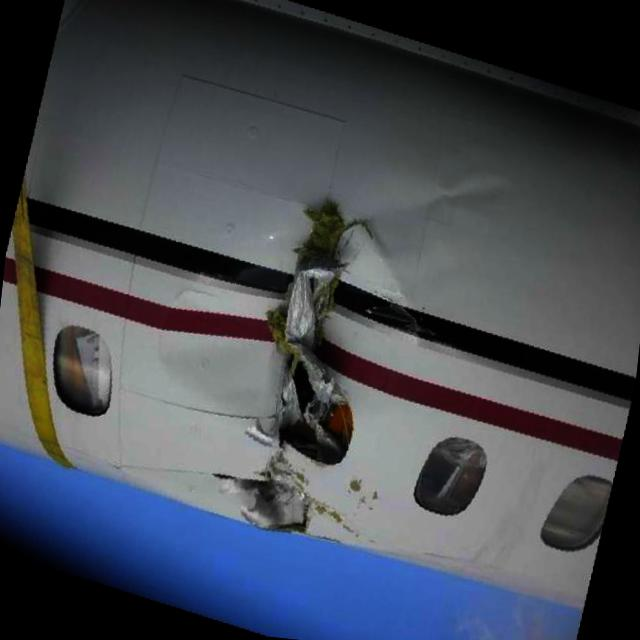crack: (196, 180, 390, 556)
dent: (151, 232, 287, 428), (394, 156, 510, 240)
